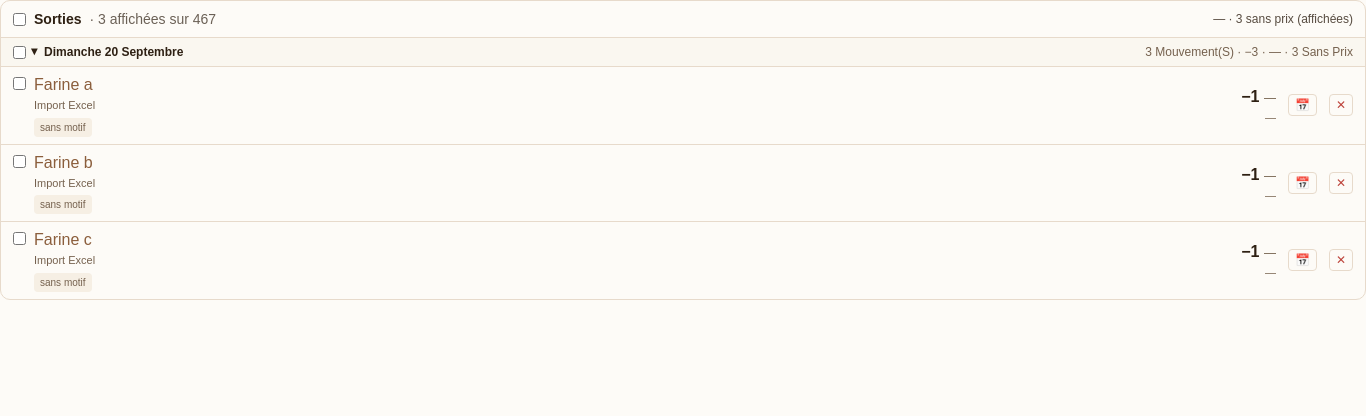
sélectionner TOUT le filtre (décision du 2026-09-29) › mode actif : la barre nomme l'ensemble ; « Changer le motif » envoie le filtre et le nombre confirmé ; décocher en sort
The width and height of the screenshot is (1366, 416).
Click the checkbox named "Tout sélectionner (3 affichés)" at coordinates (20, 19), box [13,12,26,26]
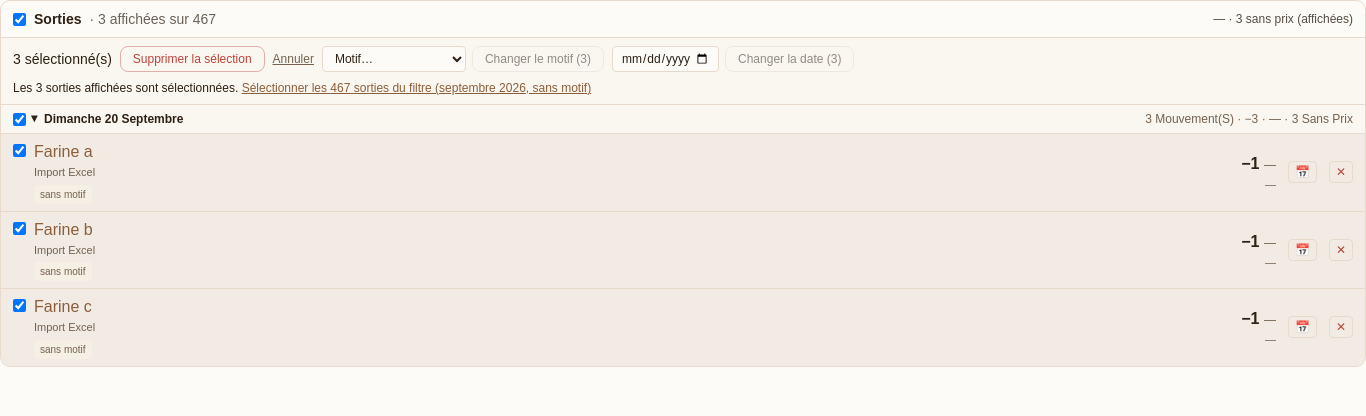
Click the button that starts with "Sélectionner les" at coordinates (416, 88), box [242,80,591,96]
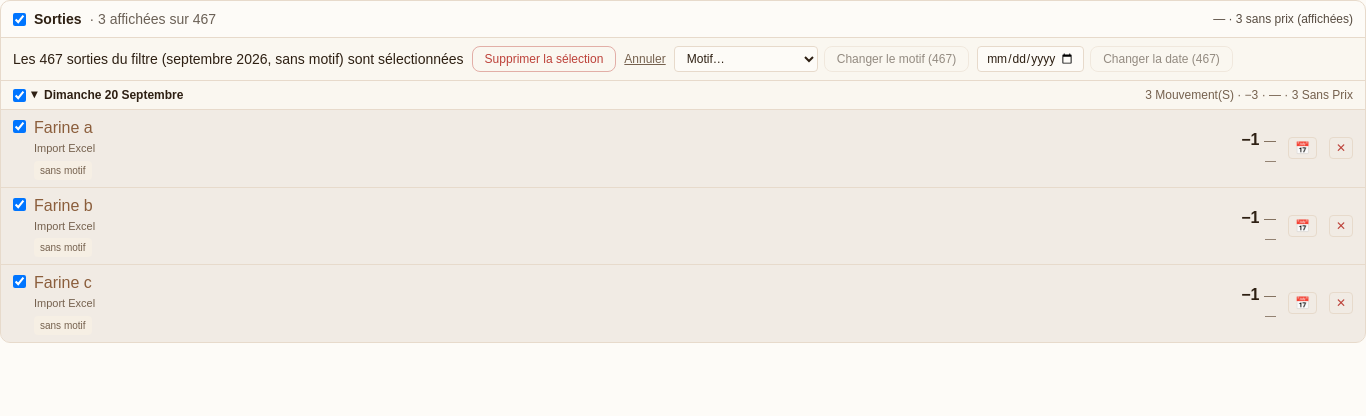
Now the button "Changer le motif (467)" is shown, box [824,46,969,72]
Now the text "Les 467 sorties du filtre (septembre 2026, sans motif) sont sélectionnées" is shown, box [13,49,464,69]
Select "Livraison restaurant" in the dropdown named "Nouveau motif" at coordinates (746, 59), box [674,46,818,72]
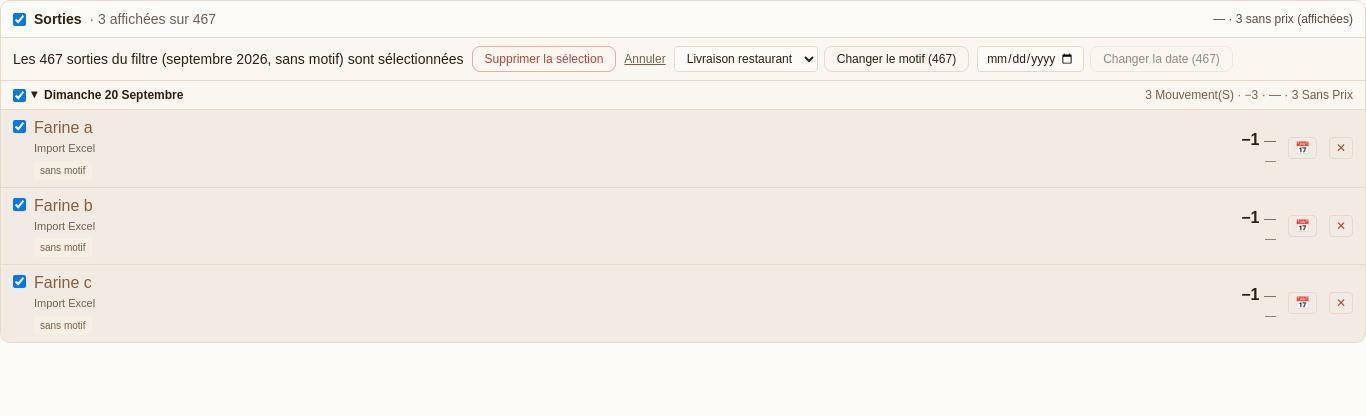
Click the button "Changer le motif (467)" at coordinates (896, 59), box [824,46,969,72]
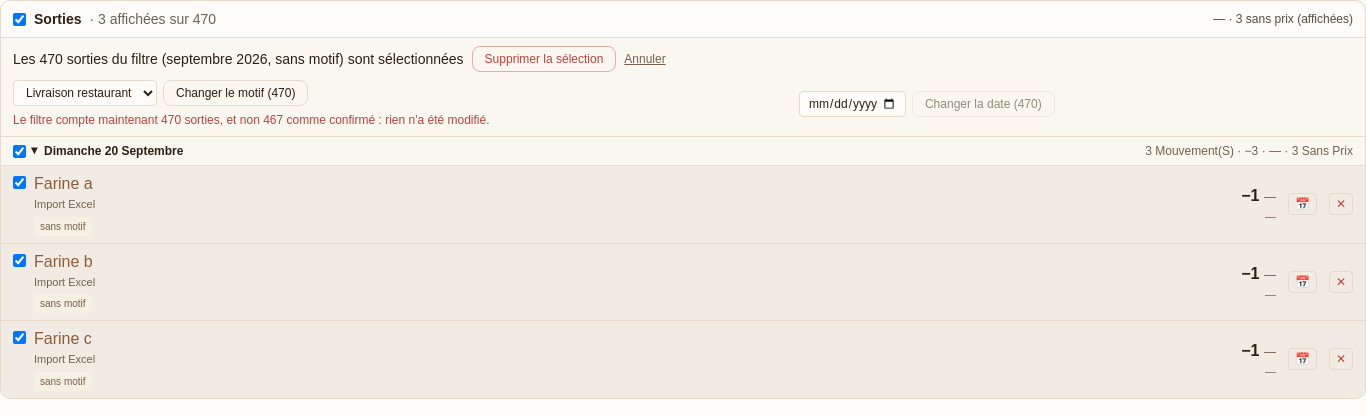
Now the button "Changer le motif (470)" is shown, box [163,80,308,106]
Now the text "Les 470 sorties du filtre" is shown, box [13,49,464,69]
Click the checkbox named "Sélectionner" next to "Farine a" at coordinates (20, 182), box [13,176,26,189]
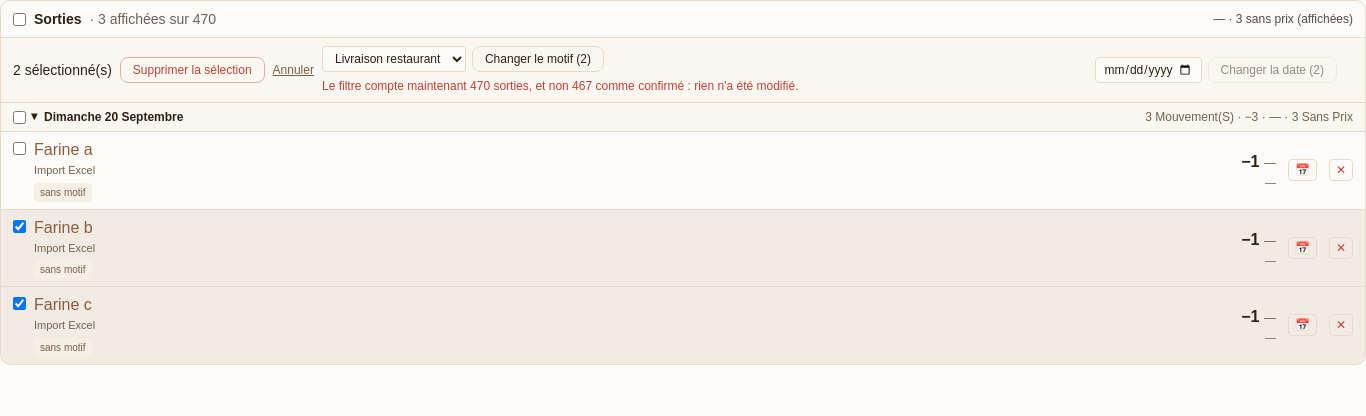
Now the text "2 sélectionné(s)" is shown, box [13,60,112,80]
